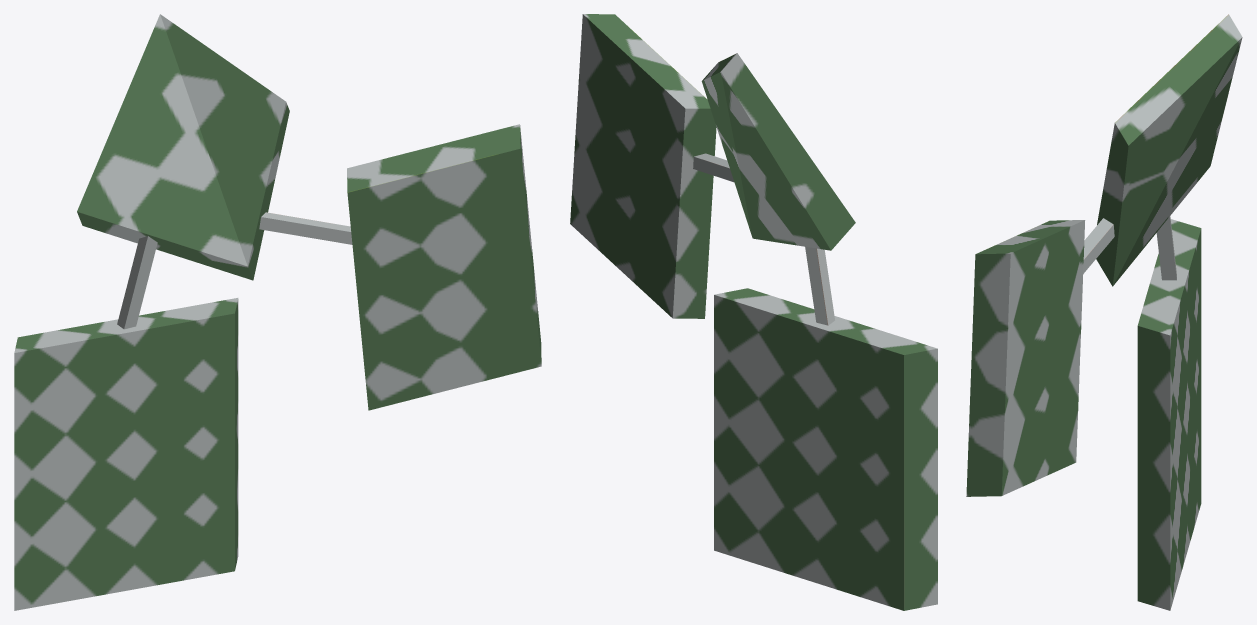
The model's file is obstaculo_abaixar_1.fbx.
3 renders of one model, left to right at view 1: azimuth 30°, elevation 25°; view 2: azimuth 150°, elevation 25°; view 3: azimuth 270°, elevation 25°, orthographic. The views are drawn at different scales.
Parts seen in each view (by area): view 1: Abaixar 1; view 2: Abaixar 1; view 3: Abaixar 1.
Boxes of the visible parts, x1,y1,x2,y2 form: Abaixar 1: (14,14,541,610); Abaixar 1: (570,14,937,610); Abaixar 1: (966,14,1242,610).
Bounding box in the file's own units: 190 × 216 × 94.58.
